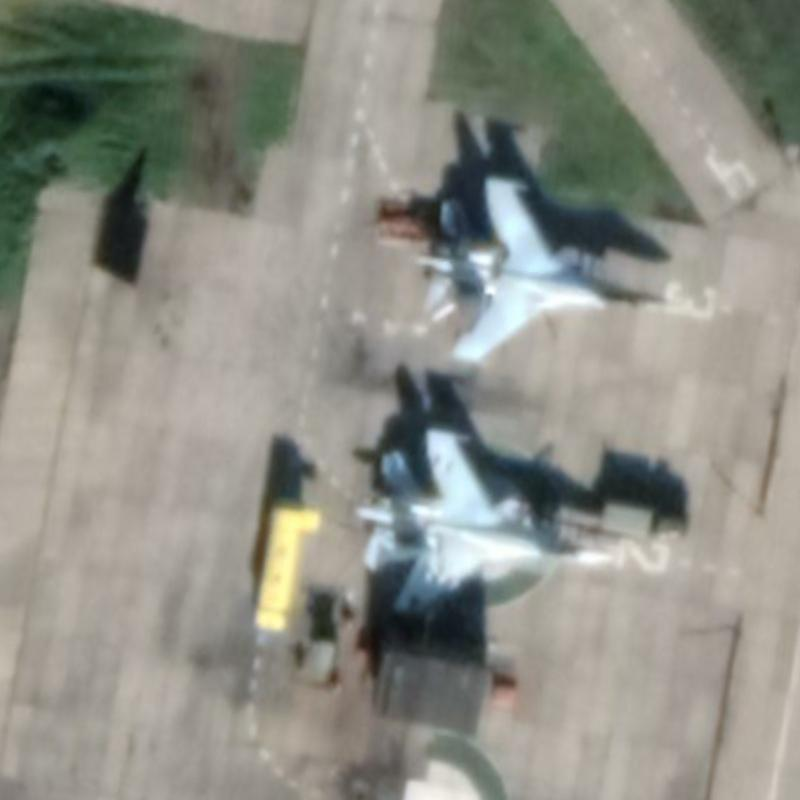A1: (350, 421, 620, 616), (413, 171, 677, 367)
